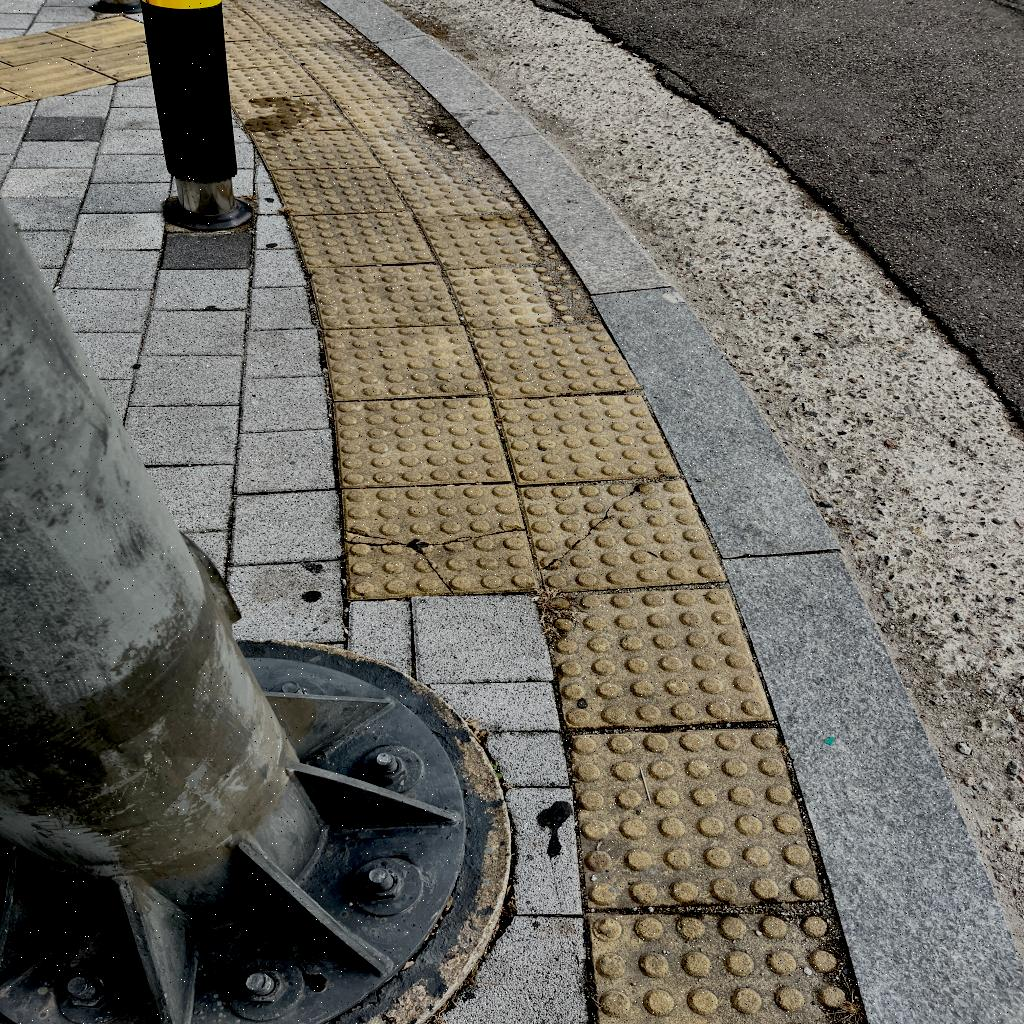Stop block broken: (521, 473, 726, 594), (343, 482, 539, 598)
Stop block normal: (496, 391, 681, 485), (335, 396, 511, 486), (310, 263, 459, 328)
